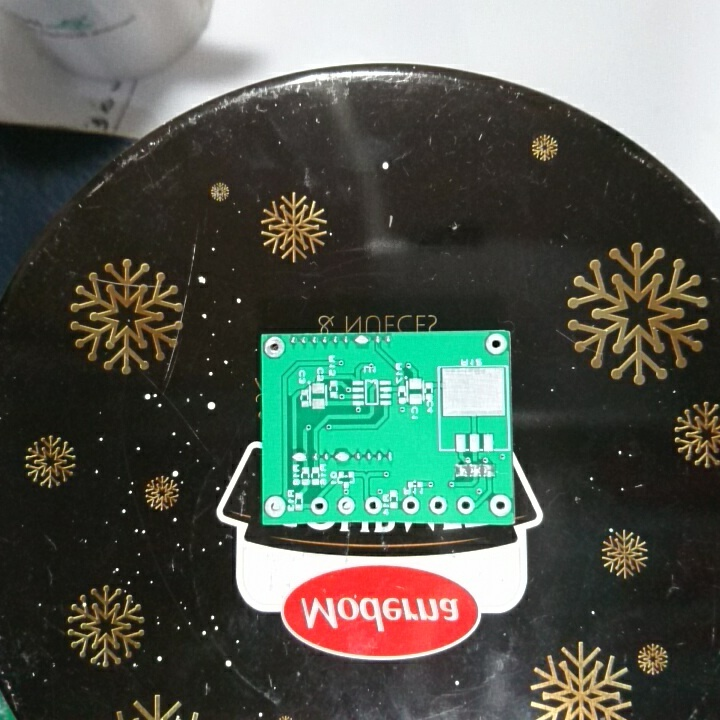F: (483, 331, 509, 359), (263, 492, 288, 521), (486, 492, 513, 518), (262, 335, 287, 361), (427, 494, 451, 518), (335, 493, 358, 518), (362, 493, 385, 517), (399, 494, 422, 517), (454, 493, 476, 516), (308, 495, 329, 518)
P: (288, 449, 310, 466), (331, 448, 352, 465), (352, 332, 371, 347)
